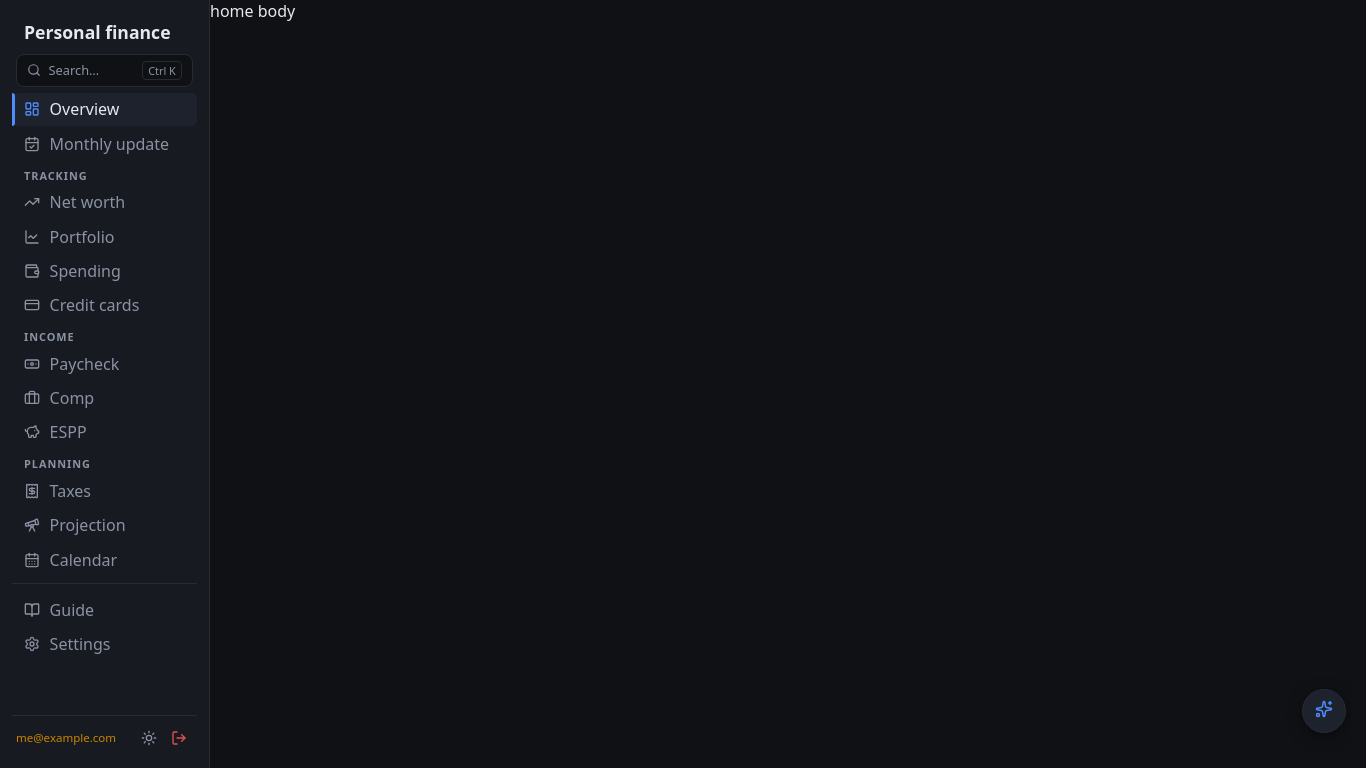
Layout — assistant mount › opens the drawer from the palette Ask assistant action
(page scrolled)
Press k
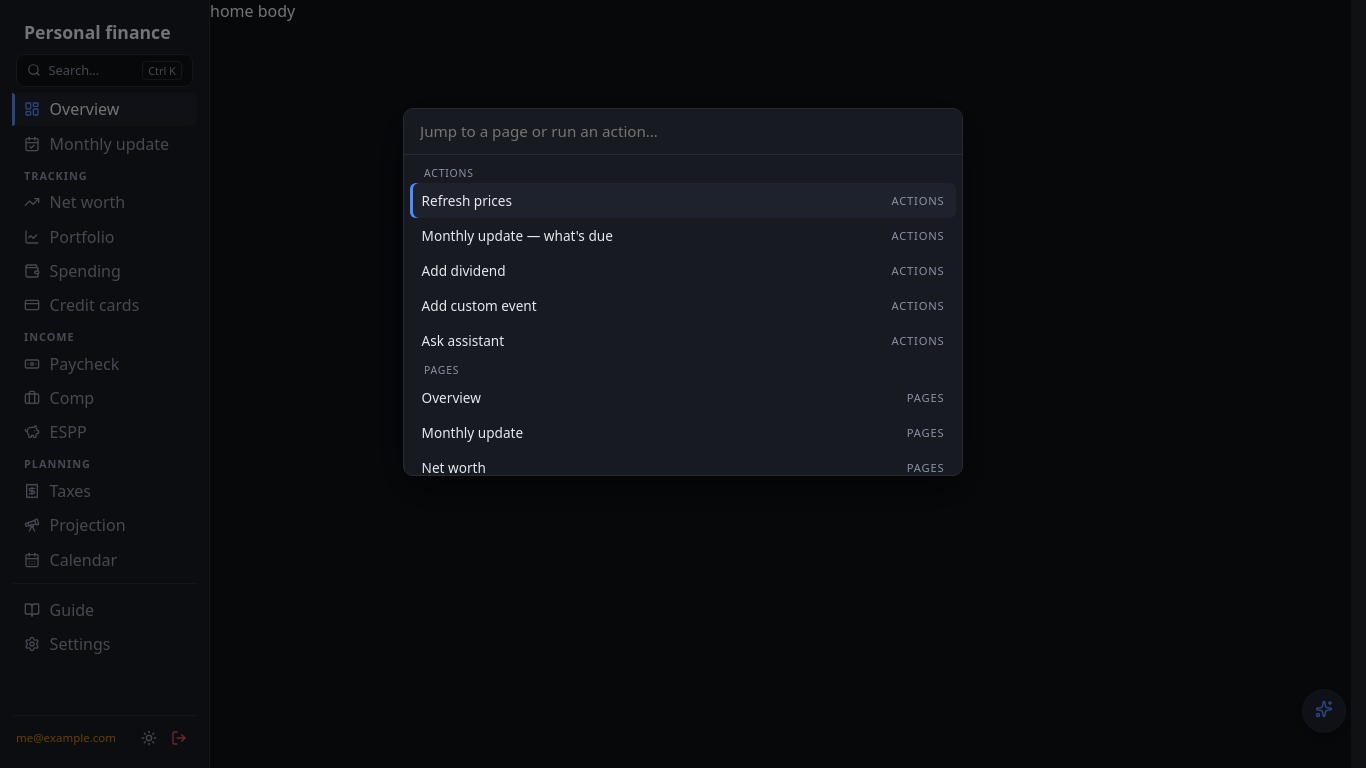
Type "assistant" into the dropdown at (683, 132), box [404, 108, 962, 155]
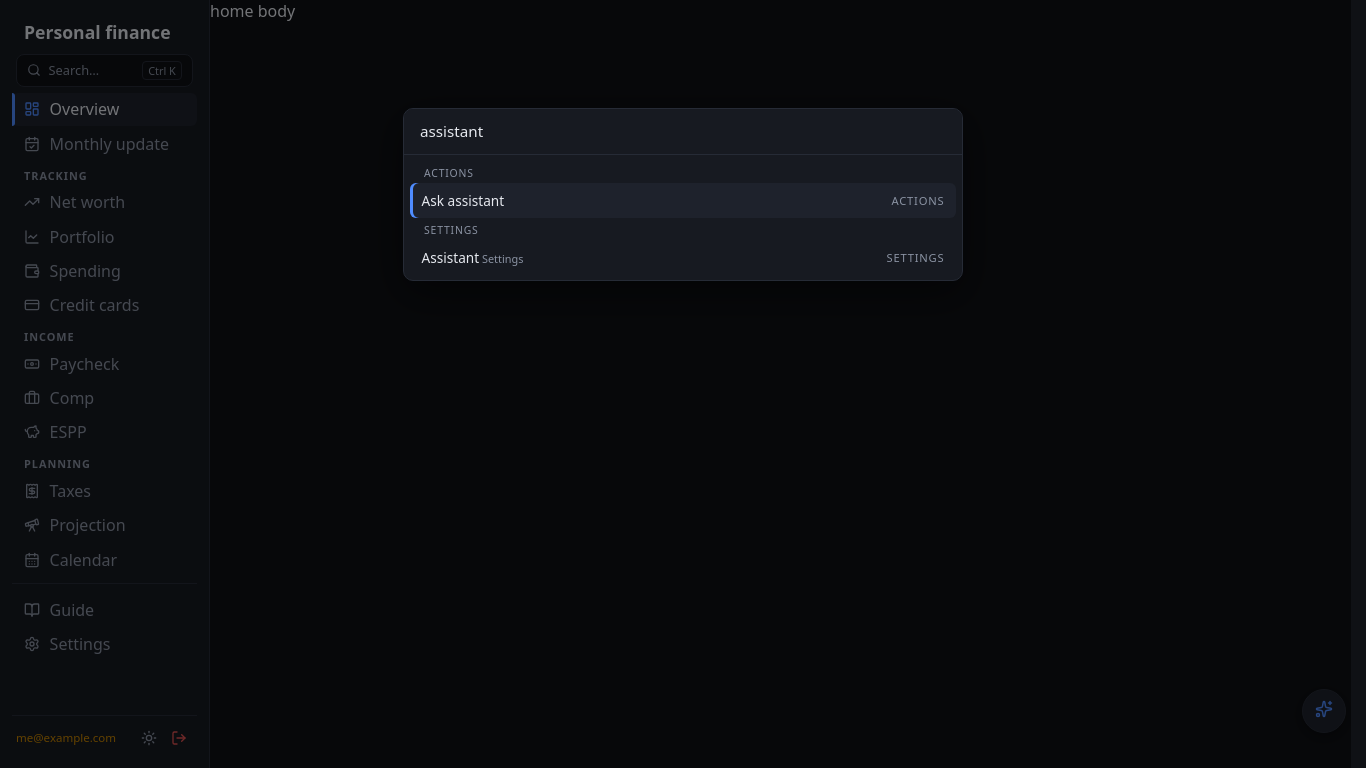
Press Enter in the dropdown, box [404, 108, 962, 155]
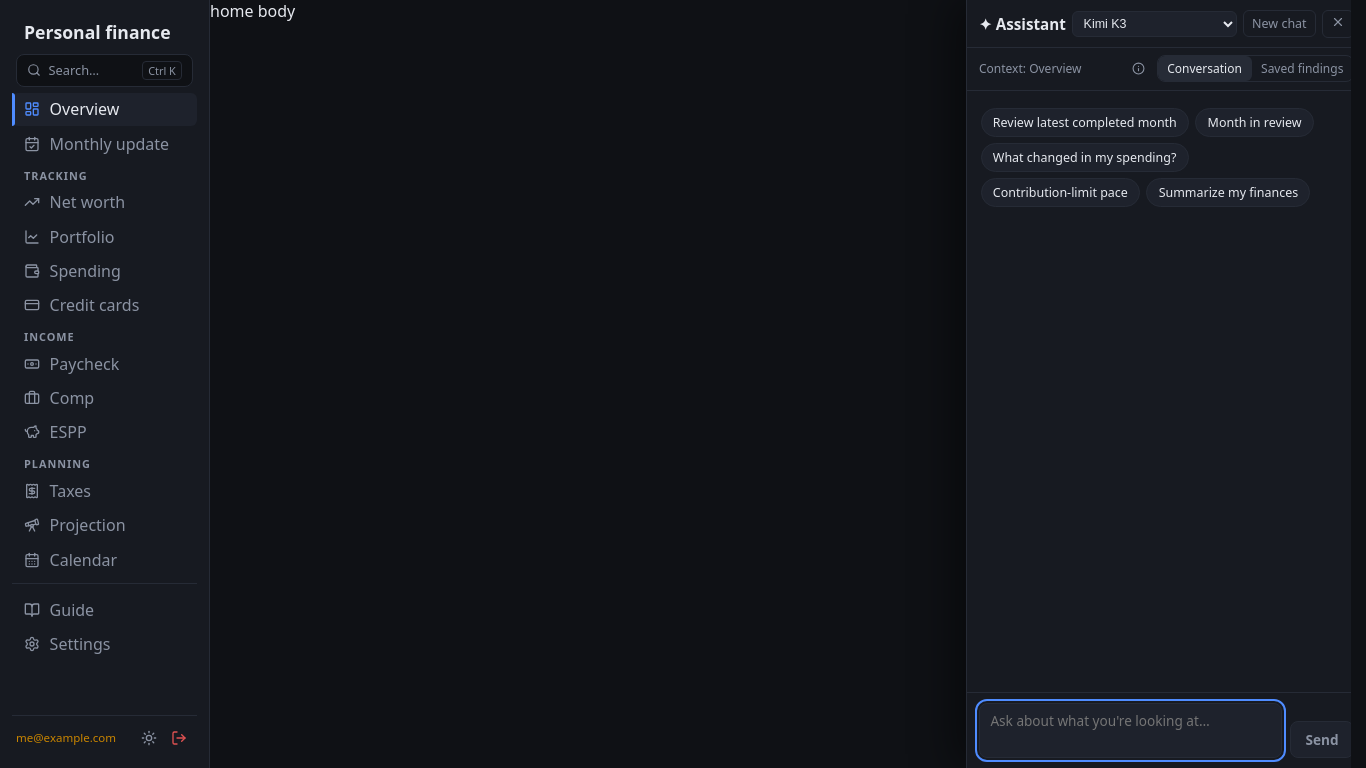
expect the element "Assistant" is shown: met, box [966, 0, 1365, 767]
expect the text box named "ask the assistant" is shown: met, box [979, 703, 1282, 758]
